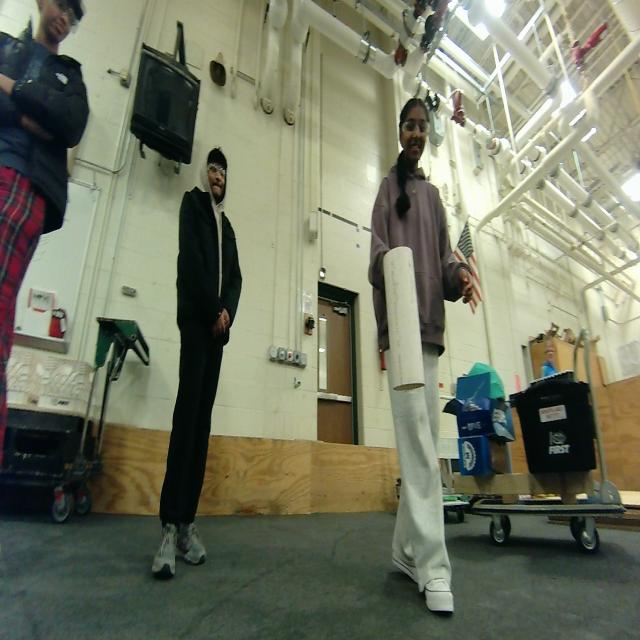coral: (383, 241, 428, 390)
